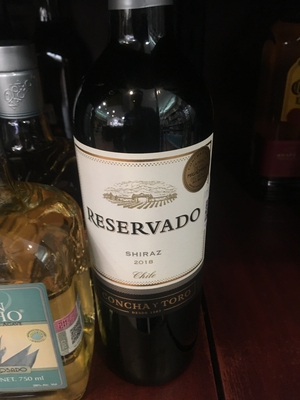reservado shiraz: (73, 16, 217, 375)
